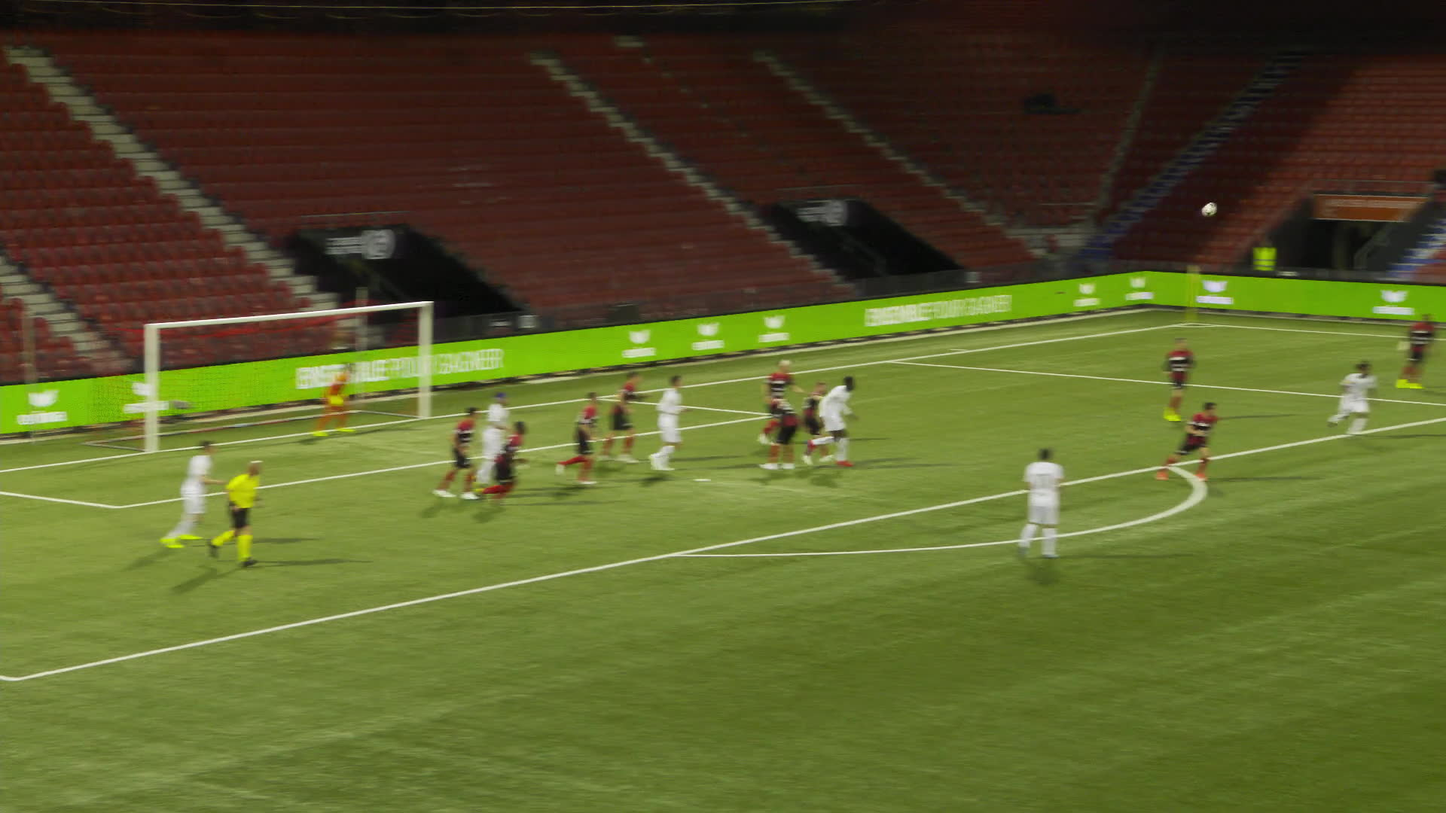ball: (1200, 202, 1217, 215)
player: (166, 438, 224, 549), (1024, 449, 1075, 556), (802, 375, 862, 464), (554, 391, 602, 484), (767, 359, 822, 440), (1167, 398, 1220, 481), (477, 393, 523, 485), (601, 372, 648, 462), (492, 421, 544, 501), (440, 404, 482, 500), (661, 373, 700, 470), (1334, 359, 1378, 434), (1396, 310, 1436, 388), (809, 381, 847, 460), (335, 364, 377, 435), (757, 393, 795, 469), (1181, 338, 1213, 421)
referee: (207, 459, 266, 566)
